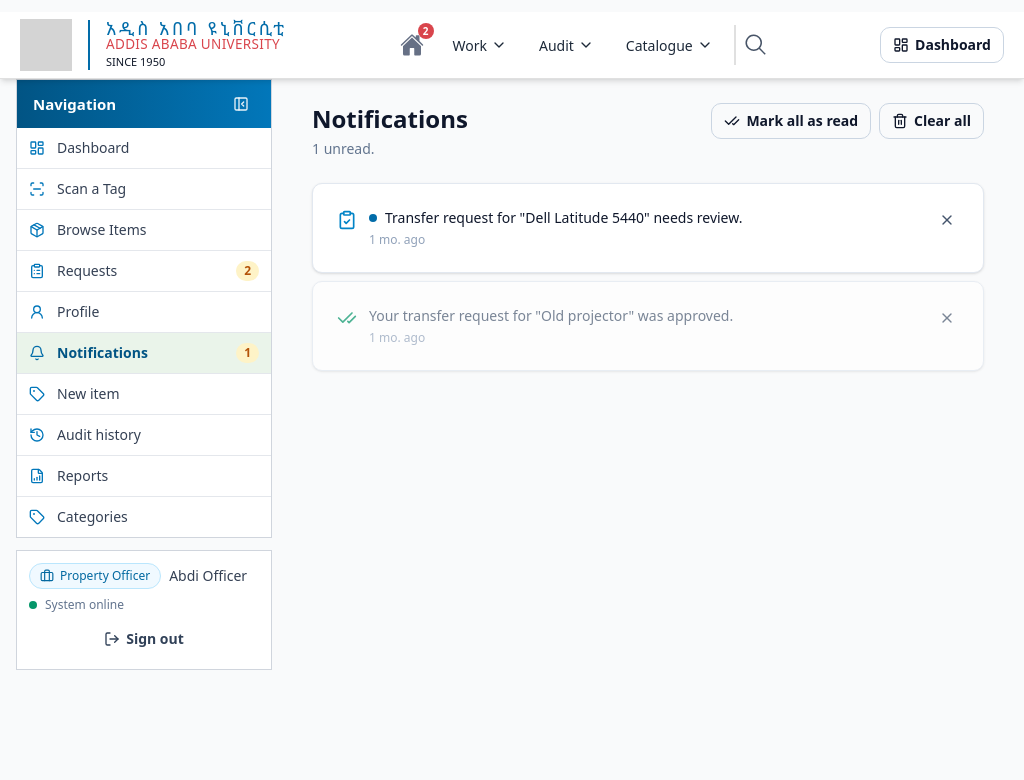
Test: /notifications — mark all as read › zeroes the count without removing a single message
Expected: the heading "Notifications" is shown, [312, 103, 468, 135]
Expected: the text "Transfer request for \"Dell Latitude 5440\" needs review." is shown, [385, 208, 742, 228]
Click the button "Mark all as read". click: [791, 121]
box: [711, 103, 871, 139]
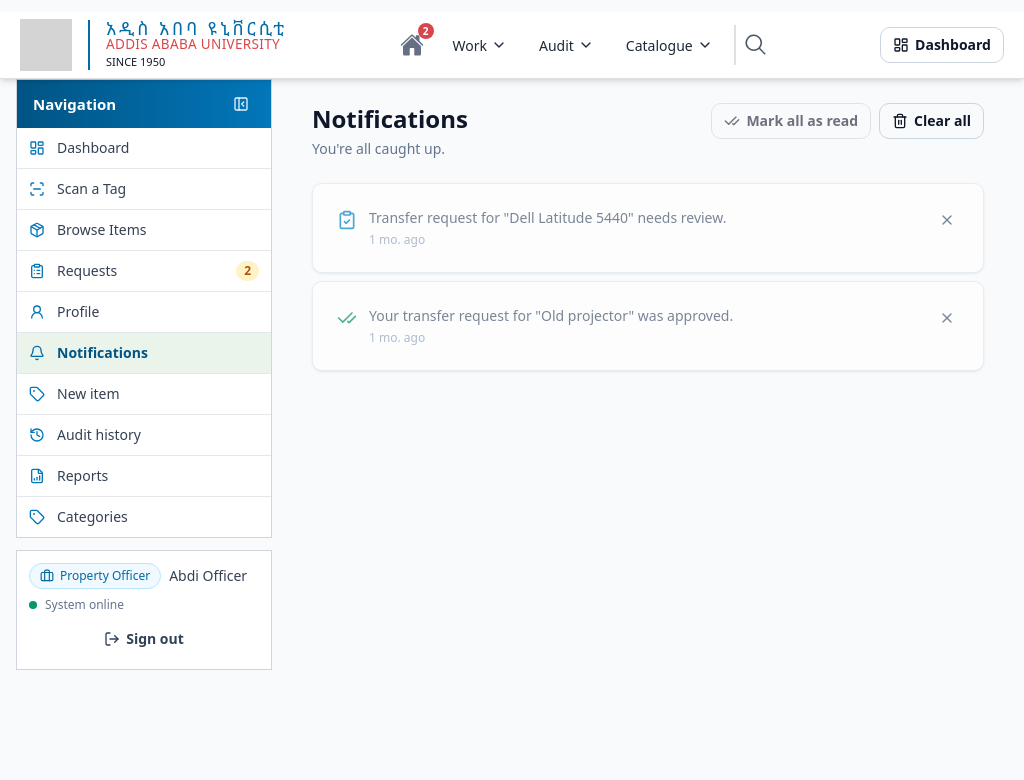
Expected: the text "Transfer request for \"Dell Latitude 5440\" needs review." is shown, [369, 208, 726, 228]
Expected: the text "You're all caught up." is shown, [312, 139, 468, 159]
Expected: no elements labelled "unread" are shown
